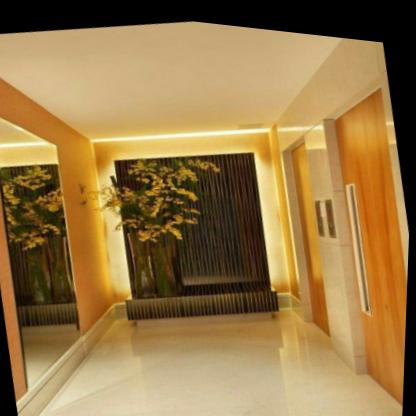Ceramic floor: (39, 303, 406, 416)
Wall Panel: (105, 129, 286, 334)
